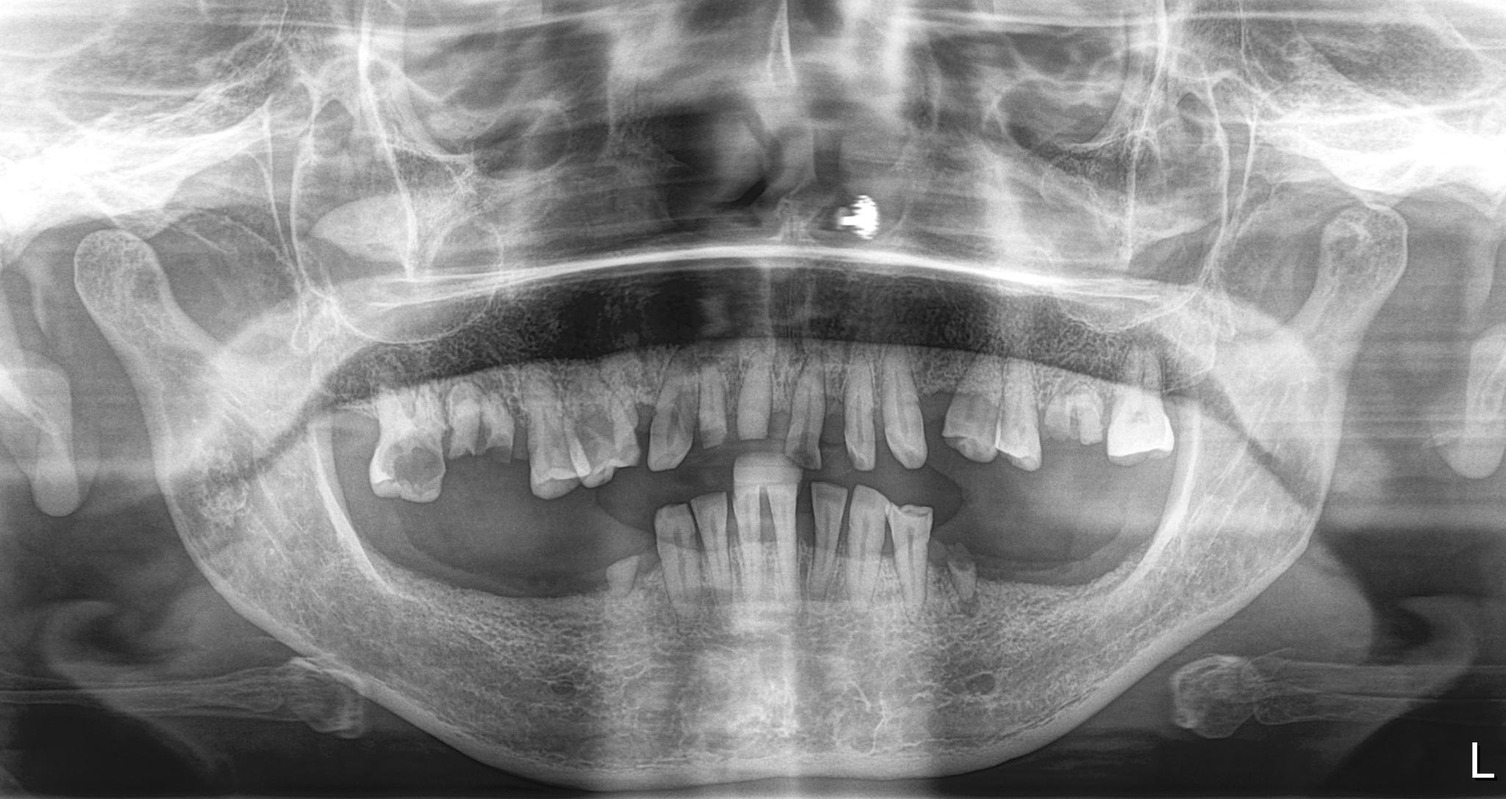Attrition: (945, 401, 1043, 456)
Dental Caries: (565, 393, 617, 474), (388, 445, 446, 493)
Missing Tooth: (414, 520, 480, 644), (989, 507, 1045, 622), (492, 535, 545, 644), (355, 527, 410, 632), (1096, 504, 1145, 612), (555, 531, 598, 643), (1052, 504, 1086, 615)
Periodontal Pocket: (664, 362, 921, 468), (658, 509, 924, 610)
Retained Root: (599, 524, 652, 618), (938, 509, 986, 603), (474, 402, 530, 472), (445, 406, 480, 469)
Tooth Fracture: (1044, 382, 1113, 446)
